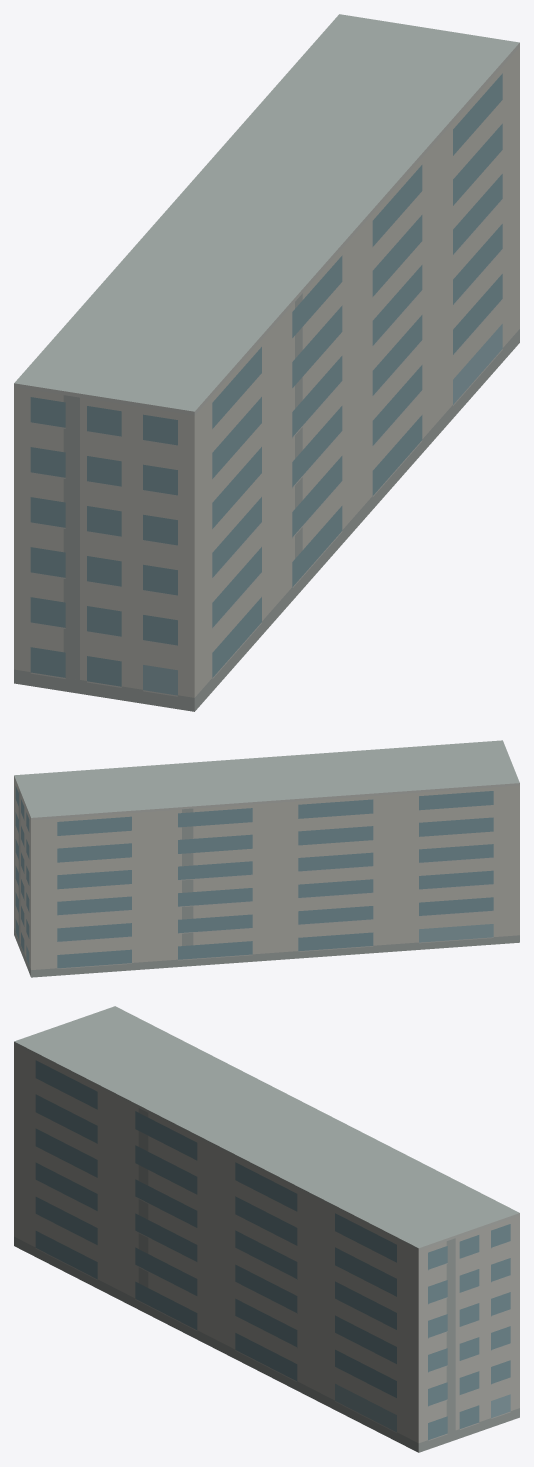
Rendered from residential-233c5c5c-b366-4051-9d11-20a39cff9c25.glb.
3 renders of one model, top to bottom at view 1: azimuth 30°, elevation 25°; view 2: azimuth 150°, elevation 25°; view 3: azimuth 270°, elevation 25°, orthographic. The views are drawn at different scales.
Parts seen in each view (by area): view 1: residential-233c5c5c-b366-4051-9d11-20a39cff9c25.tmp; view 2: residential-233c5c5c-b366-4051-9d11-20a39cff9c25.tmp; view 3: residential-233c5c5c-b366-4051-9d11-20a39cff9c25.tmp.
Part boxes in pixels (left/top/right/bottom): residential-233c5c5c-b366-4051-9d11-20a39cff9c25.tmp: left=14, top=14, right=519, bottom=711; residential-233c5c5c-b366-4051-9d11-20a39cff9c25.tmp: left=14, top=740, right=519, bottom=977; residential-233c5c5c-b366-4051-9d11-20a39cff9c25.tmp: left=14, top=1006, right=519, bottom=1452.
Size of the model in its own units: 46.49 by 18.3 by 41.03.
